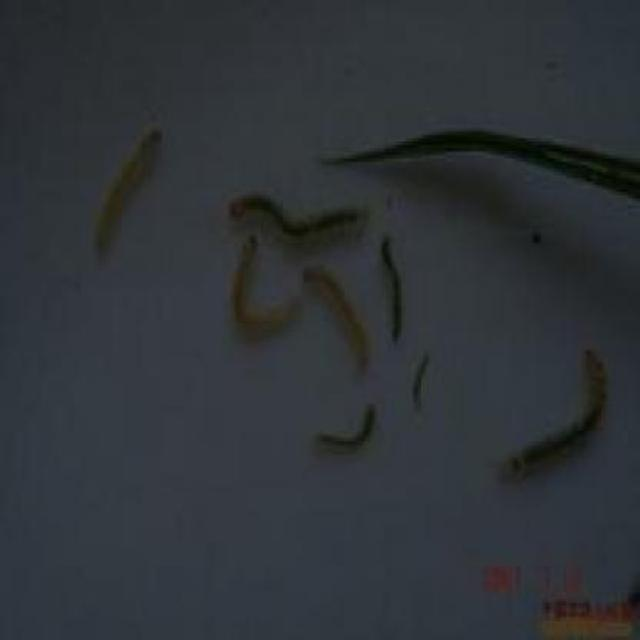leaf-folder: (474, 338, 623, 491), (217, 173, 381, 258), (280, 250, 385, 382), (94, 102, 172, 266), (209, 230, 303, 344), (305, 397, 403, 461), (368, 223, 418, 342), (407, 332, 442, 425)
